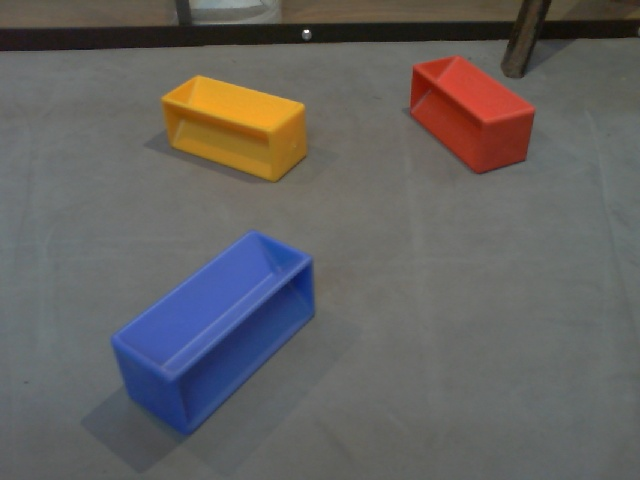BlueSample: (104, 233, 319, 438)
RedSample: (406, 53, 536, 176)
YellowSample: (156, 69, 312, 189)
